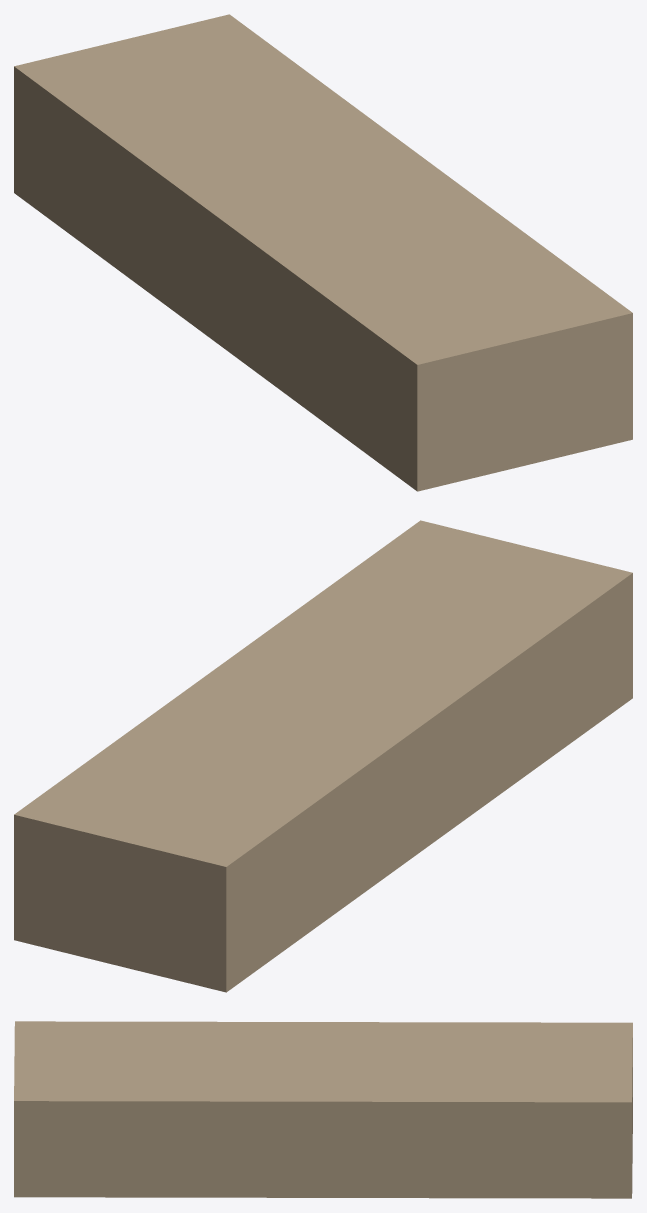
Rendered from bld_49071566.dae.
The picture shows the model from 3 angles, top to bottom: view 1: azimuth 30°, elevation 25°; view 2: azimuth 150°, elevation 25°; view 3: azimuth 270°, elevation 25°; orthographic projection. The views are drawn at different scales.
Parts seen in each view (by area): view 1: Maldon Metals; view 2: Maldon Metals; view 3: Maldon Metals.
Part boxes in pixels (x1,y1,x2,y2): Maldon Metals: (14,14,632,491); Maldon Metals: (14,520,632,992); Maldon Metals: (14,1021,632,1198).
Bounding box in the file's own units: 14.43 × 46.65 × 8.
